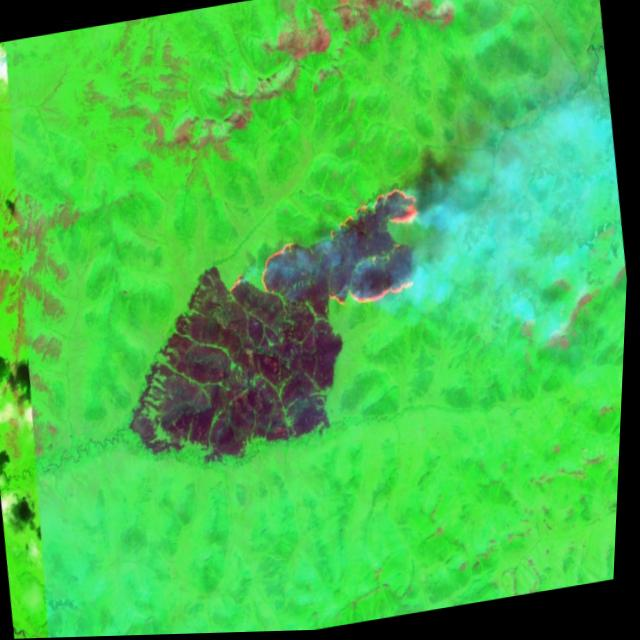fire: (248, 177, 443, 341)
